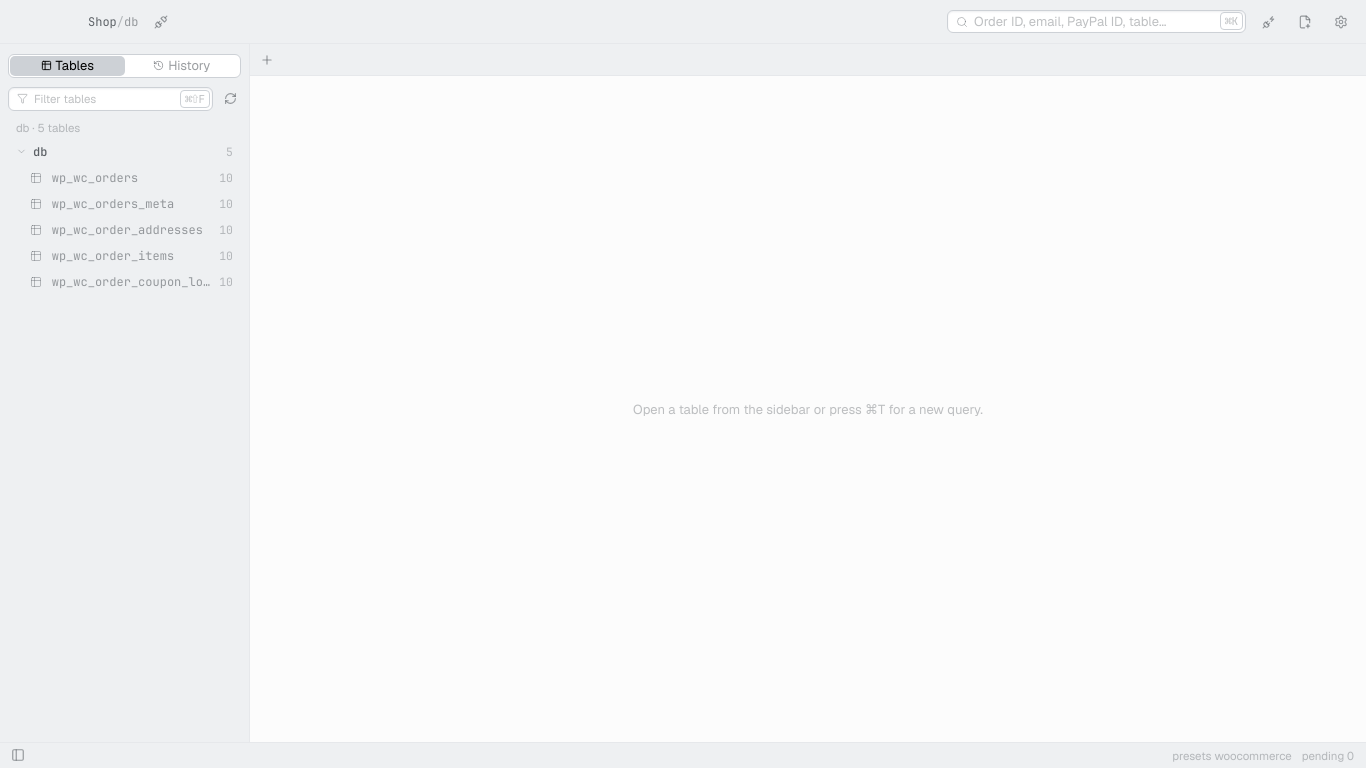
Test: ProjectPanel › opening the page › opens a Project tab from the status bar's presets button, which names the applied presets
The width and height of the screenshot is (1366, 768).
Click the button "presets woocommerce": (1232, 756) [1172,748,1292,763]
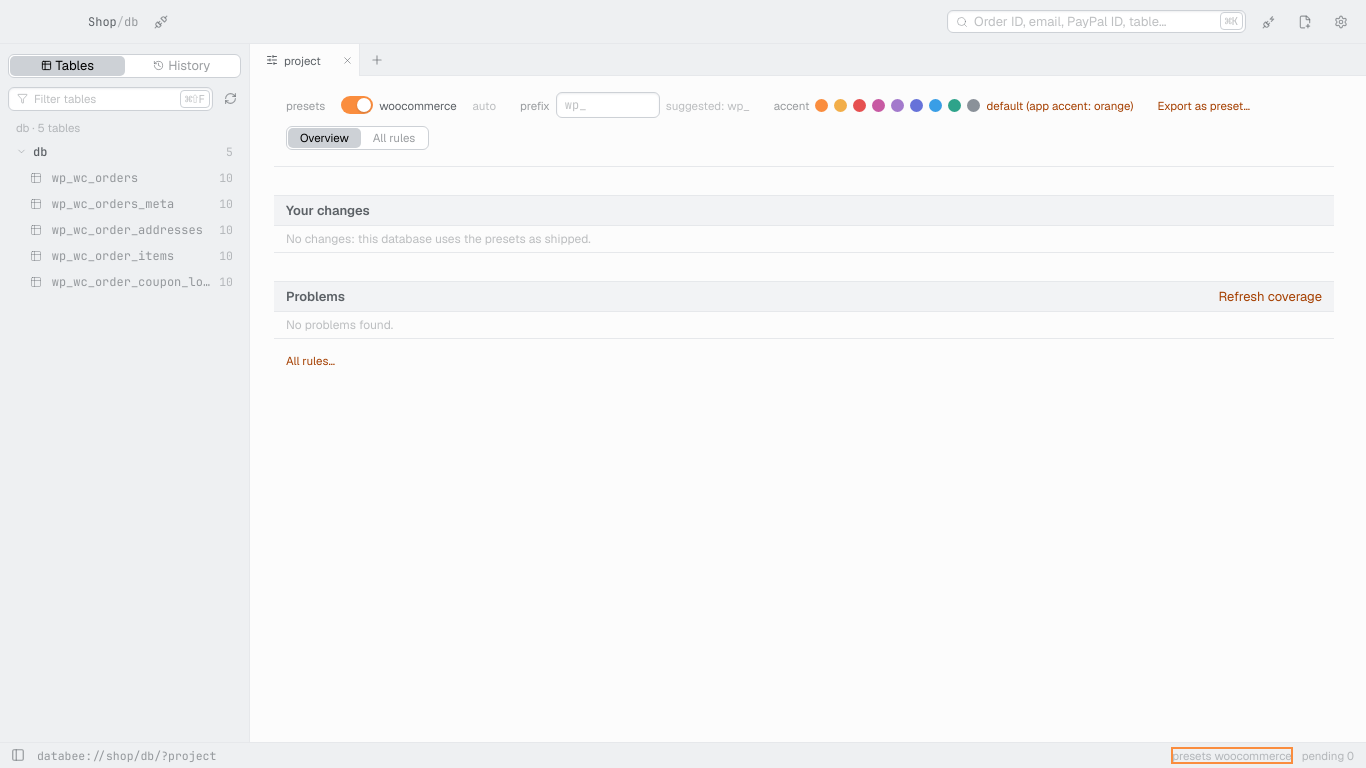
Now the element named "Presets and prefix" is shown, box [274,76,1334,167]
